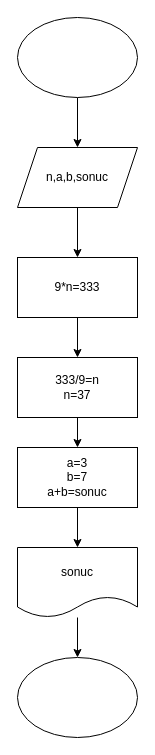
The diagram is 155 pixels wide and 755 high, and some of its shapes have lost their labels. The box of each missing label's shape, as (x1, y1, x2, y2) in pixels:
BAŞLA: (16, 16, 138, 98)
BİTİR: (16, 656, 138, 738)
